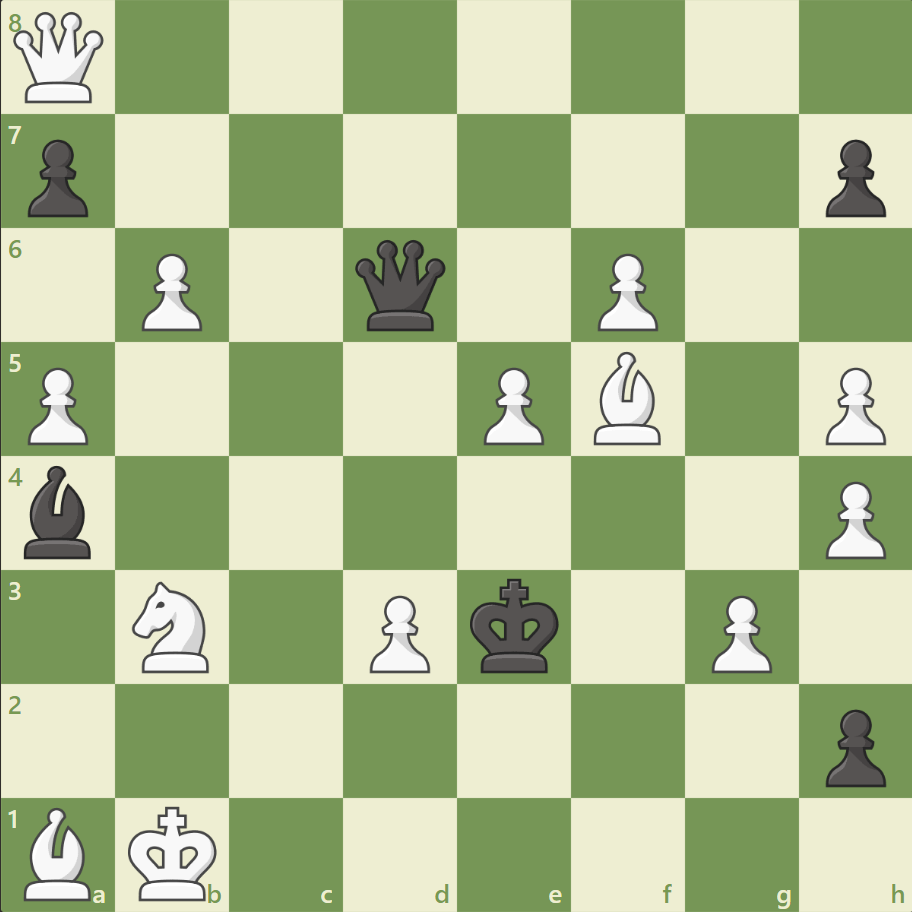B: (17, 801, 101, 904), (585, 347, 669, 449)
K: (124, 798, 224, 906)
N: (124, 575, 222, 677)
P: (133, 246, 208, 337), (20, 359, 95, 450), (474, 359, 549, 450), (701, 586, 776, 677), (588, 246, 662, 337), (815, 359, 889, 450), (815, 473, 889, 564), (361, 586, 435, 677)
Q: (10, 9, 109, 108)
b: (17, 460, 101, 563)
k: (465, 571, 565, 679)
p: (20, 132, 95, 223), (815, 132, 889, 223), (815, 700, 889, 791)
q: (351, 236, 450, 335)
